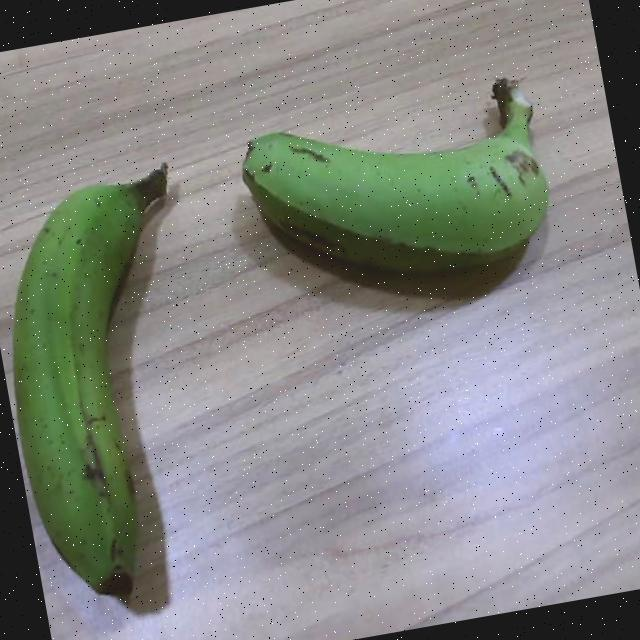Raw: (0, 117, 261, 630), (222, 45, 582, 341)
